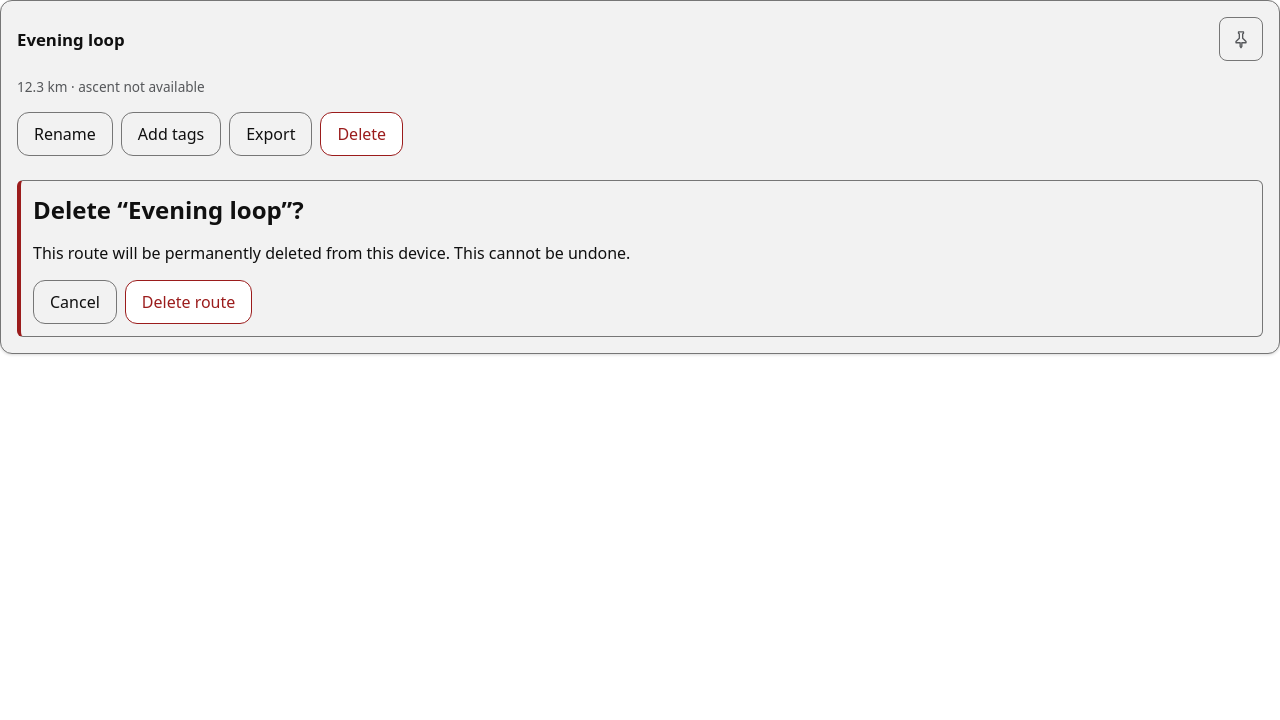
Test: RouteListItem › tag editor › opening the tag editor cancels this route's pending delete confirmation first
Click the button "Add tags": (171, 134) x1=121 y1=112 x2=221 y2=156
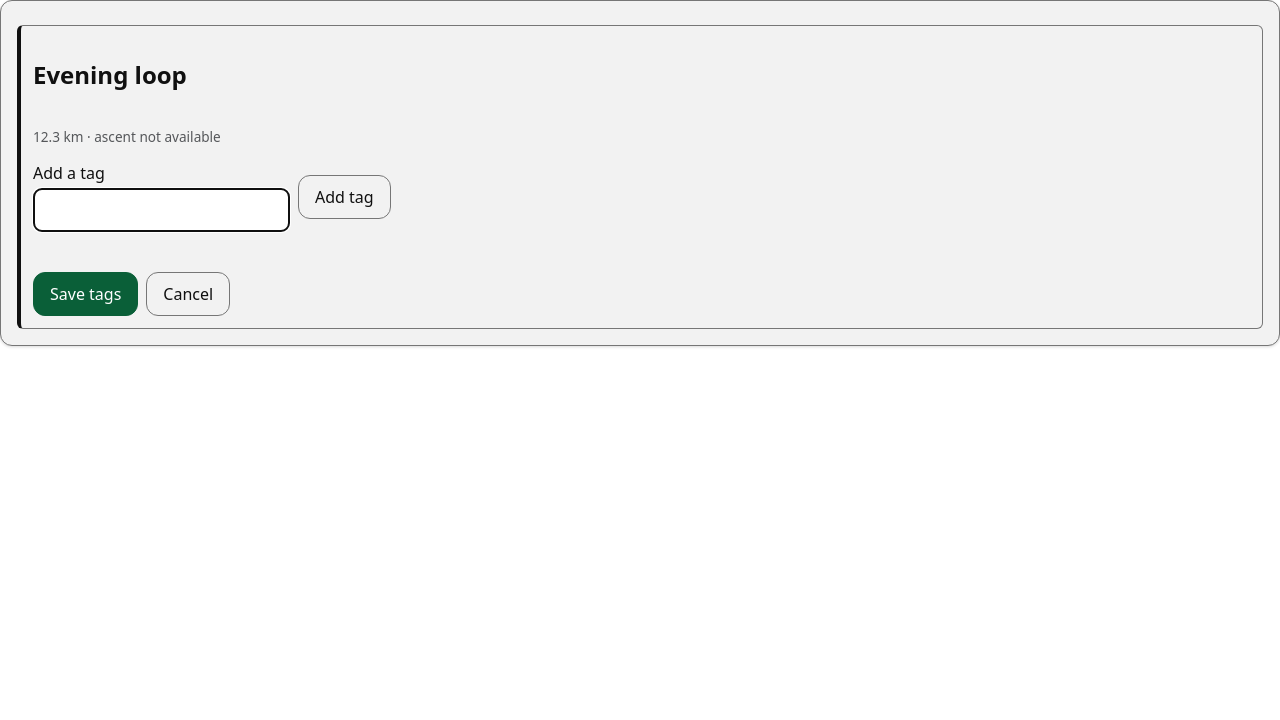
Check: the button "Save tags" is shown, box x1=33 y1=272 x2=138 y2=316
Check: the dialog is gone
